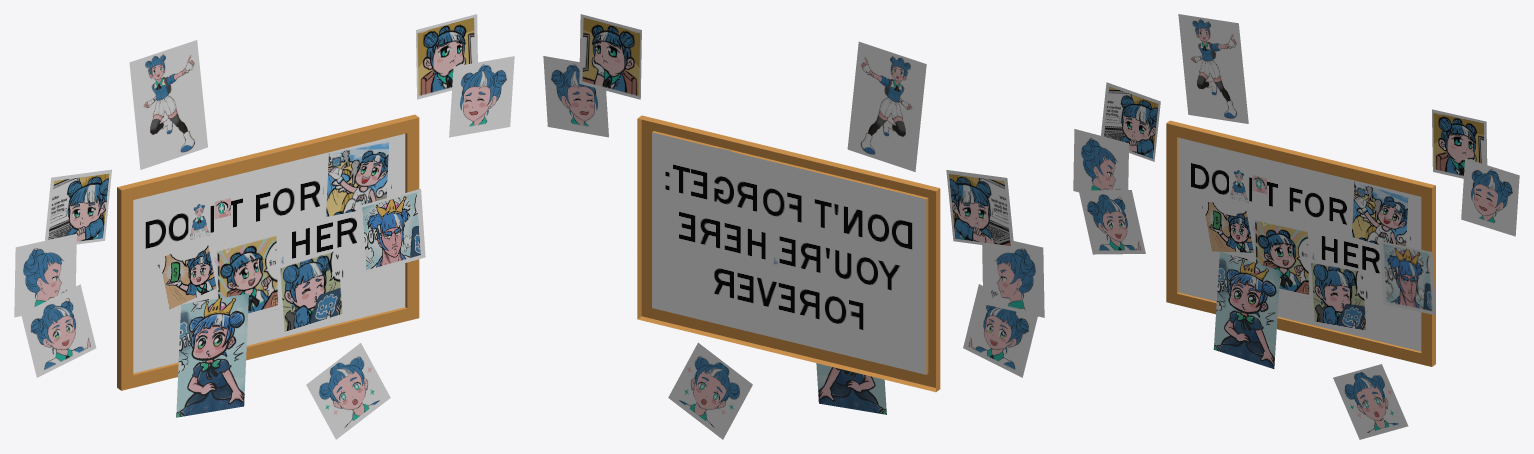
The model's file is Shrine.glb.
3 views of the same model, side by side, from view 1: azimuth 30°, elevation 25°; view 2: azimuth 150°, elevation 25°; view 3: azimuth 330°, elevation 25° (orthographic). The views are drawn at different scales.
Visible parts, largest first — view 1: Plane.001, Plane; view 2: Plane, Plane.001; view 3: Plane.001, Plane.
Boxes of the visible parts, left/top/right/bottom form: Plane.001: left=14, top=14, right=514, bottom=439; Plane: left=117, top=114, right=419, bottom=390; Plane: left=637, top=115, right=940, bottom=392; Plane.001: left=543, top=14, right=1044, bottom=439; Plane.001: left=1073, top=14, right=1519, bottom=439; Plane: left=1166, top=120, right=1435, bottom=366.
Bounding box in the file's own units: 3.36 × 2.77 × 0.0594.
Materials: 1 (1 with a texture image).
